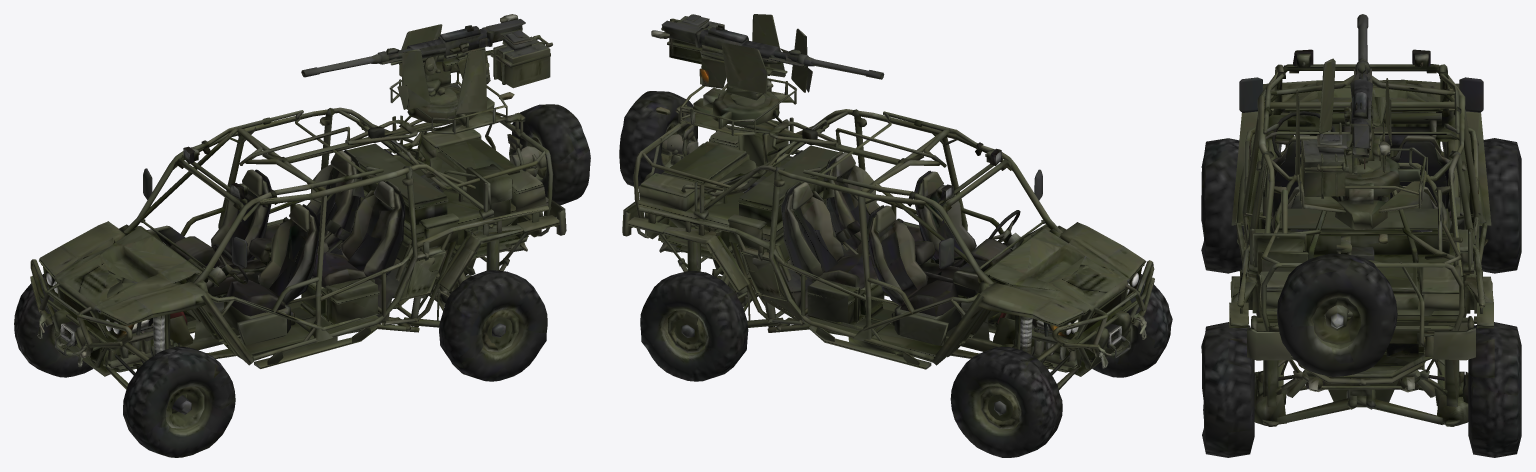
The model's file is buggy.glb.
3 views of the same model, side by side, from view 1: azimuth 30°, elevation 25°; view 2: azimuth 150°, elevation 25°; view 3: azimuth 270°, elevation 25° (orthographic). The views are drawn at different scales.
Visible parts, largest first — view 1: geometry_0; view 2: geometry_0; view 3: geometry_0.
Part boxes in pixels (x1,y1,x2,y2): geometry_0: [14, 14, 590, 457]; geometry_0: [619, 14, 1172, 457]; geometry_0: [1201, 14, 1521, 457].
Size of the model in its own units: 0.9526 by 0.5581 by 0.4389.
1 material, 1 textured.
